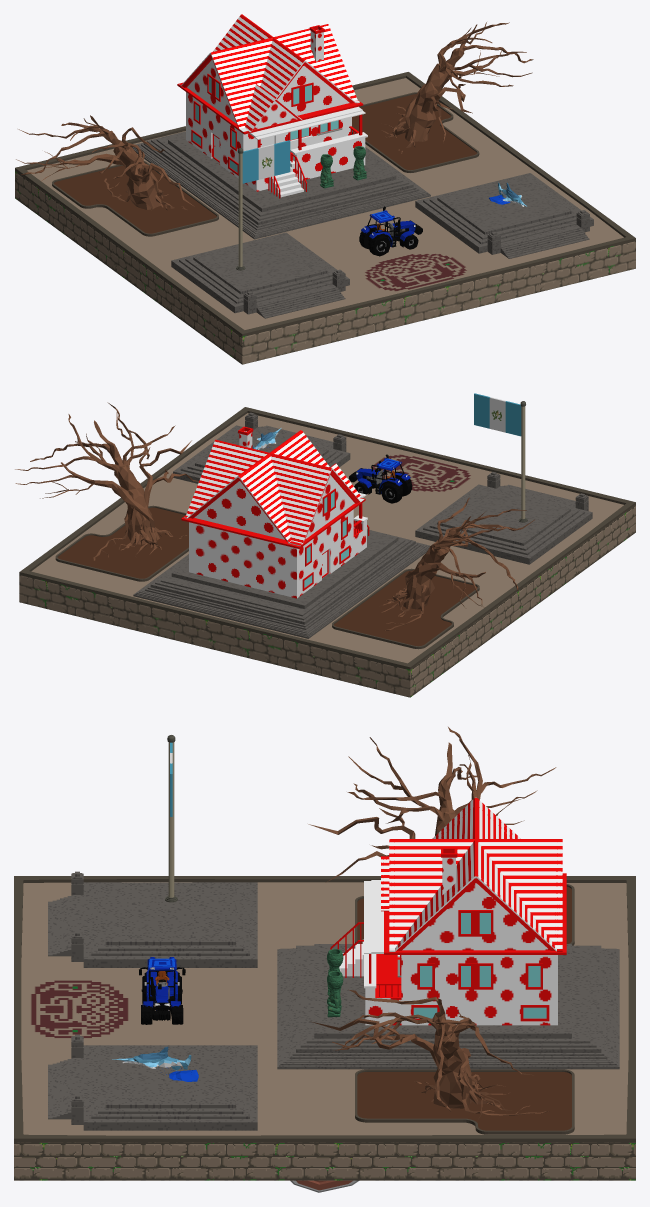
The picture shows the model from 3 angles, top to bottom: view 1: azimuth 30°, elevation 25°; view 2: azimuth 150°, elevation 25°; view 3: azimuth 270°, elevation 25°; orthographic projection. The views are drawn at different scales.
Parts seen in each view (by area): view 1: Cube.011, Cube.196, OBJRANDOM_GUATEMALAN_FLAG, VEHICLES_TRACTOR; view 2: Cube.011, Cube.196, OBJRANDOM_GUATEMALAN_FLAG, VEHICLES_TRACTOR; view 3: Cube.011, Cube.196, VEHICLES_TRACTOR, OBJRANDOM_GUATEMALAN_FLAG, ANIMAL_PEZ_ESPADA.
Part boxes in pixels (x1=…): Cube.011: x1=15, y1=22, x2=635, y2=364; Cube.196: x1=177, y1=14, x2=367, y2=198; OBJRANDOM_GUATEMALAN_FLAG: x1=236, y1=140, x2=290, y2=270; VEHICLES_TRACTOR: x1=359, y1=206, x2=422, y2=256; Cube.011: x1=15, y1=402, x2=635, y2=697; Cube.196: x1=181, y1=426, x2=369, y2=598; OBJRANDOM_GUATEMALAN_FLAG: x1=474, y1=393, x2=527, y2=522; VEHICLES_TRACTOR: x1=349, y1=454, x2=412, y2=503; Cube.011: x1=14, y1=727, x2=635, y2=1180; Cube.196: x1=330, y1=797, x2=566, y2=1025; VEHICLES_TRACTOR: x1=139, y1=957, x2=185, y2=1024; OBJRANDOM_GUATEMALAN_FLAG: x1=165, y1=735, x2=177, y2=902; ANIMAL_PEZ_ESPADA: x1=112, y1=1046, x2=198, y2=1081.
Size of the model in its own units: 5099 by 2376 by 4000.
39 materials, 6 textured.
